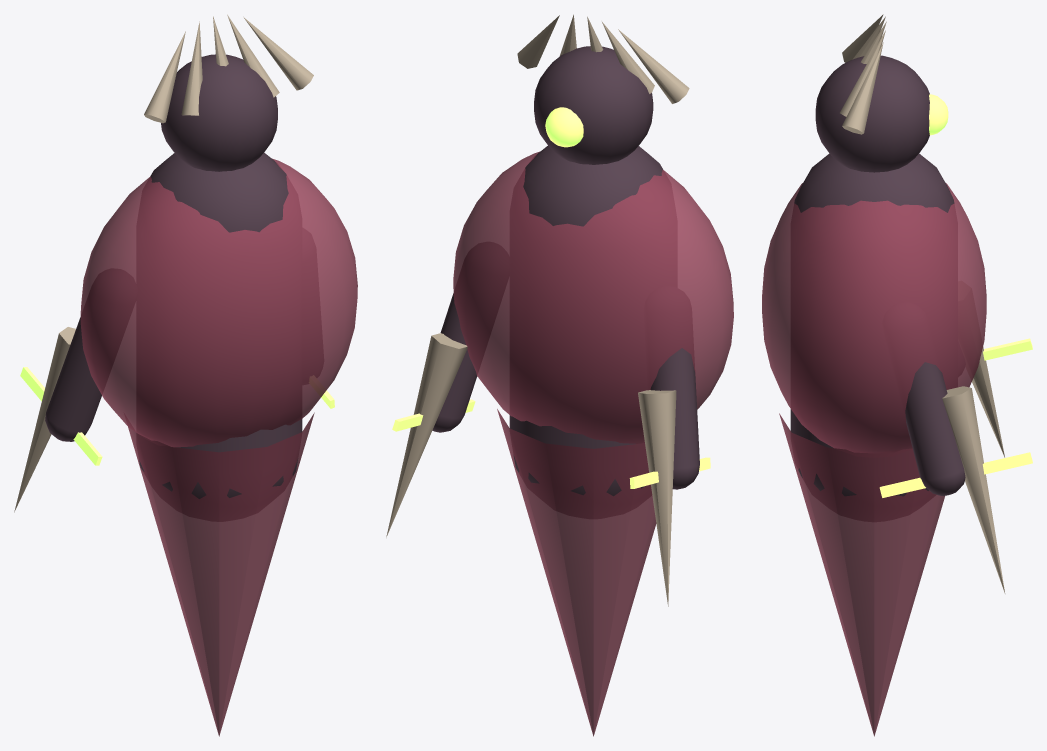
Rendered from grafted-brood-displacer.glb.
3 renders of one model, left to right at view 1: azimuth 30°, elevation 25°; view 2: azimuth 150°, elevation 25°; view 3: azimuth 270°, elevation 25°, orthographic.
Parts seen in each view (by area): view 1: phase_cloak, cloak_hem, skull_plate, torso_shell, blade_arm_upper_l, blade_edge_l, crown_spur_1, crown_spur_5, crown_spur_2, blade_vein_l, crown_spur_4; view 2: phase_cloak, cloak_hem, skull_plate, torso_shell, blade_edge_l, blade_edge_r, blade_arm_upper_l, blade_arm_upper_r, command_eye, crown_spur_1, crown_spur_5, crown_spur_2; view 3: phase_cloak, cloak_hem, skull_plate, torso_shell, blade_arm_upper_r, blade_edge_r, crown_spur_5, blade_vein_r, blade_edge_l, command_eye, blade_vein_l, crown_spur_4 (+1 smaller).
Part boxes in pixels (<box>): phase_cloak: <box>80,158,357,447</box>; cloak_hem: <box>128,412,314,736</box>; skull_plate: <box>161,54,277,171</box>; torso_shell: <box>139,152,302,499</box>; blade_arm_upper_l: <box>45,317,101,441</box>; blade_edge_l: <box>14,327,75,512</box>; crown_spur_1: <box>144,31,185,123</box>; crown_spur_5: <box>243,17,313,90</box>; crown_spur_2: <box>181,21,202,115</box>; blade_vein_l: <box>20,367,102,465</box>; crown_spur_4: <box>227,14,279,97</box>; phase_cloak: <box>453,151,733,443</box>; cloak_hem: <box>497,409,656,736</box>; skull_plate: <box>534,46,653,164</box>; torso_shell: <box>509,145,663,496</box>; blade_edge_l: <box>638,390,676,606</box>; blade_edge_r: <box>386,333,467,537</box>; blade_arm_upper_l: <box>650,348,699,489</box>; blade_arm_upper_r: <box>432,293,477,432</box>; command_eye: <box>545,107,583,147</box>; crown_spur_1: <box>618,29,689,103</box>; crown_spur_5: <box>517,15,559,68</box>; crown_spur_2: <box>602,22,654,93</box>; phase_cloak: <box>762,183,986,453</box>; cloak_hem: <box>779,413,944,736</box>; skull_plate: <box>815,55,929,172</box>; torso_shell: <box>790,153,954,496</box>; blade_arm_upper_r: <box>905,362,965,495</box>; blade_edge_r: <box>942,386,1005,593</box>; crown_spur_5: <box>842,42,883,134</box>; blade_vein_r: <box>879,452,1032,497</box>; blade_edge_l: <box>972,346,1004,457</box>; command_eye: <box>929,94,948,135</box>; blade_vein_l: <box>983,338,1032,360</box>; crown_spur_4: <box>840,30,885,116</box>.
Bounding box in the file's own units: 0.5387 × 1.32 × 0.4537.
